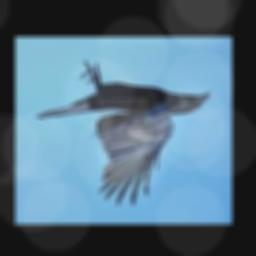Crow: (36, 61, 212, 206)
